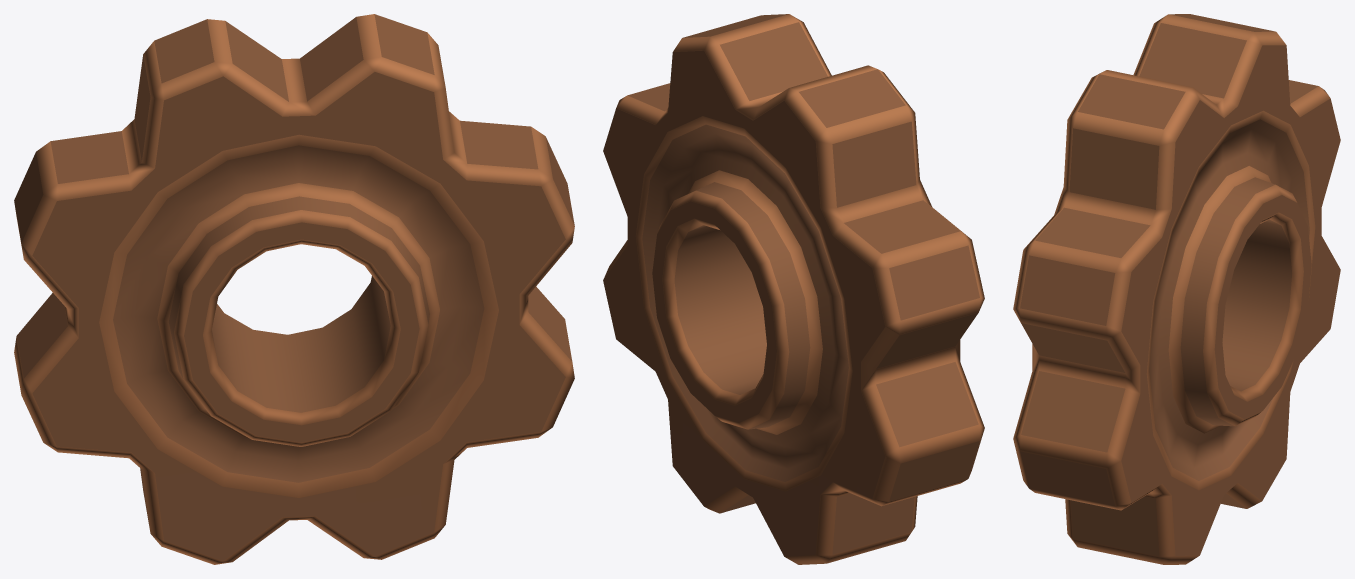
Rendered from Brake_3.fbx.
The picture shows the model from 3 angles, left to right: view 1: azimuth 30°, elevation 25°; view 2: azimuth 150°, elevation 25°; view 3: azimuth 270°, elevation 25°; orthographic projection. The views are drawn at different scales.
Visible parts, largest first — view 1: Brake_3; view 2: Brake_3; view 3: Brake_3.
Boxes of the visible parts, box(x1,y1,x2,y2) form: Brake_3: box(14, 14, 574, 564); Brake_3: box(603, 14, 984, 564); Brake_3: box(1013, 14, 1340, 564).
Bounding box in the file's own units: 43.93 × 44.83 × 28.15.
Materials: 1 (1 with a texture image).
